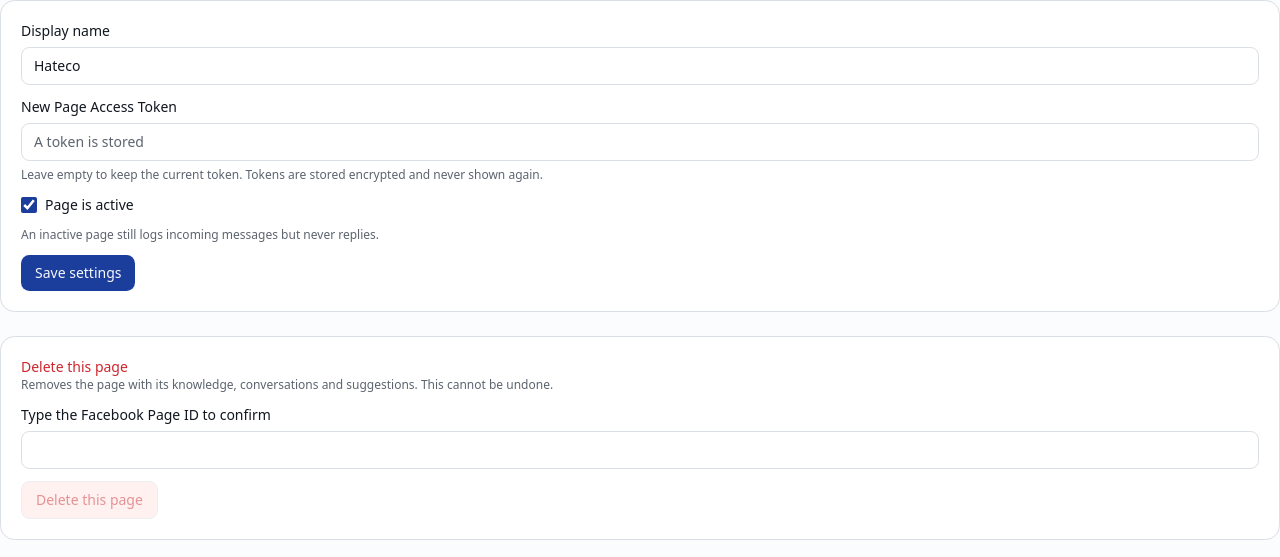
it: SettingsTab › only enables delete after the page id is typed
Check: the button "Delete this page" is disabled, box x1=21 y1=481 x2=158 y2=519
Type "100000000000001" into the field labelled "Type the Facebook Page ID to confirm" at coordinates (640, 450), box x1=21 y1=431 x2=1259 y2=469
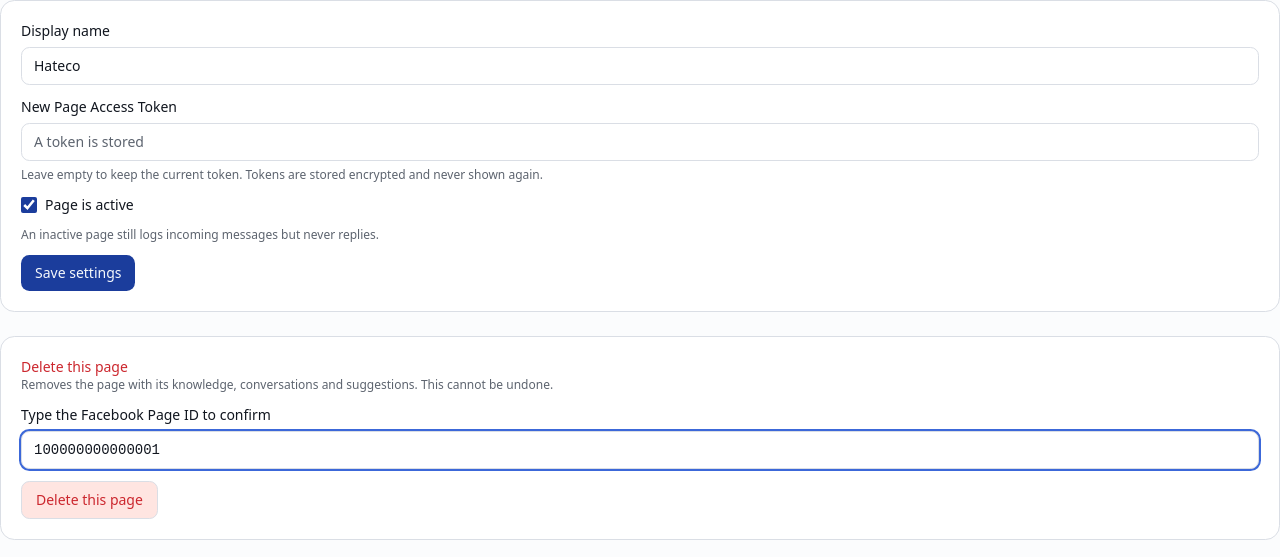
Check: the button "Delete this page" is enabled, box x1=21 y1=481 x2=158 y2=519
